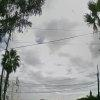Palm tree: (1, 44, 22, 100)
